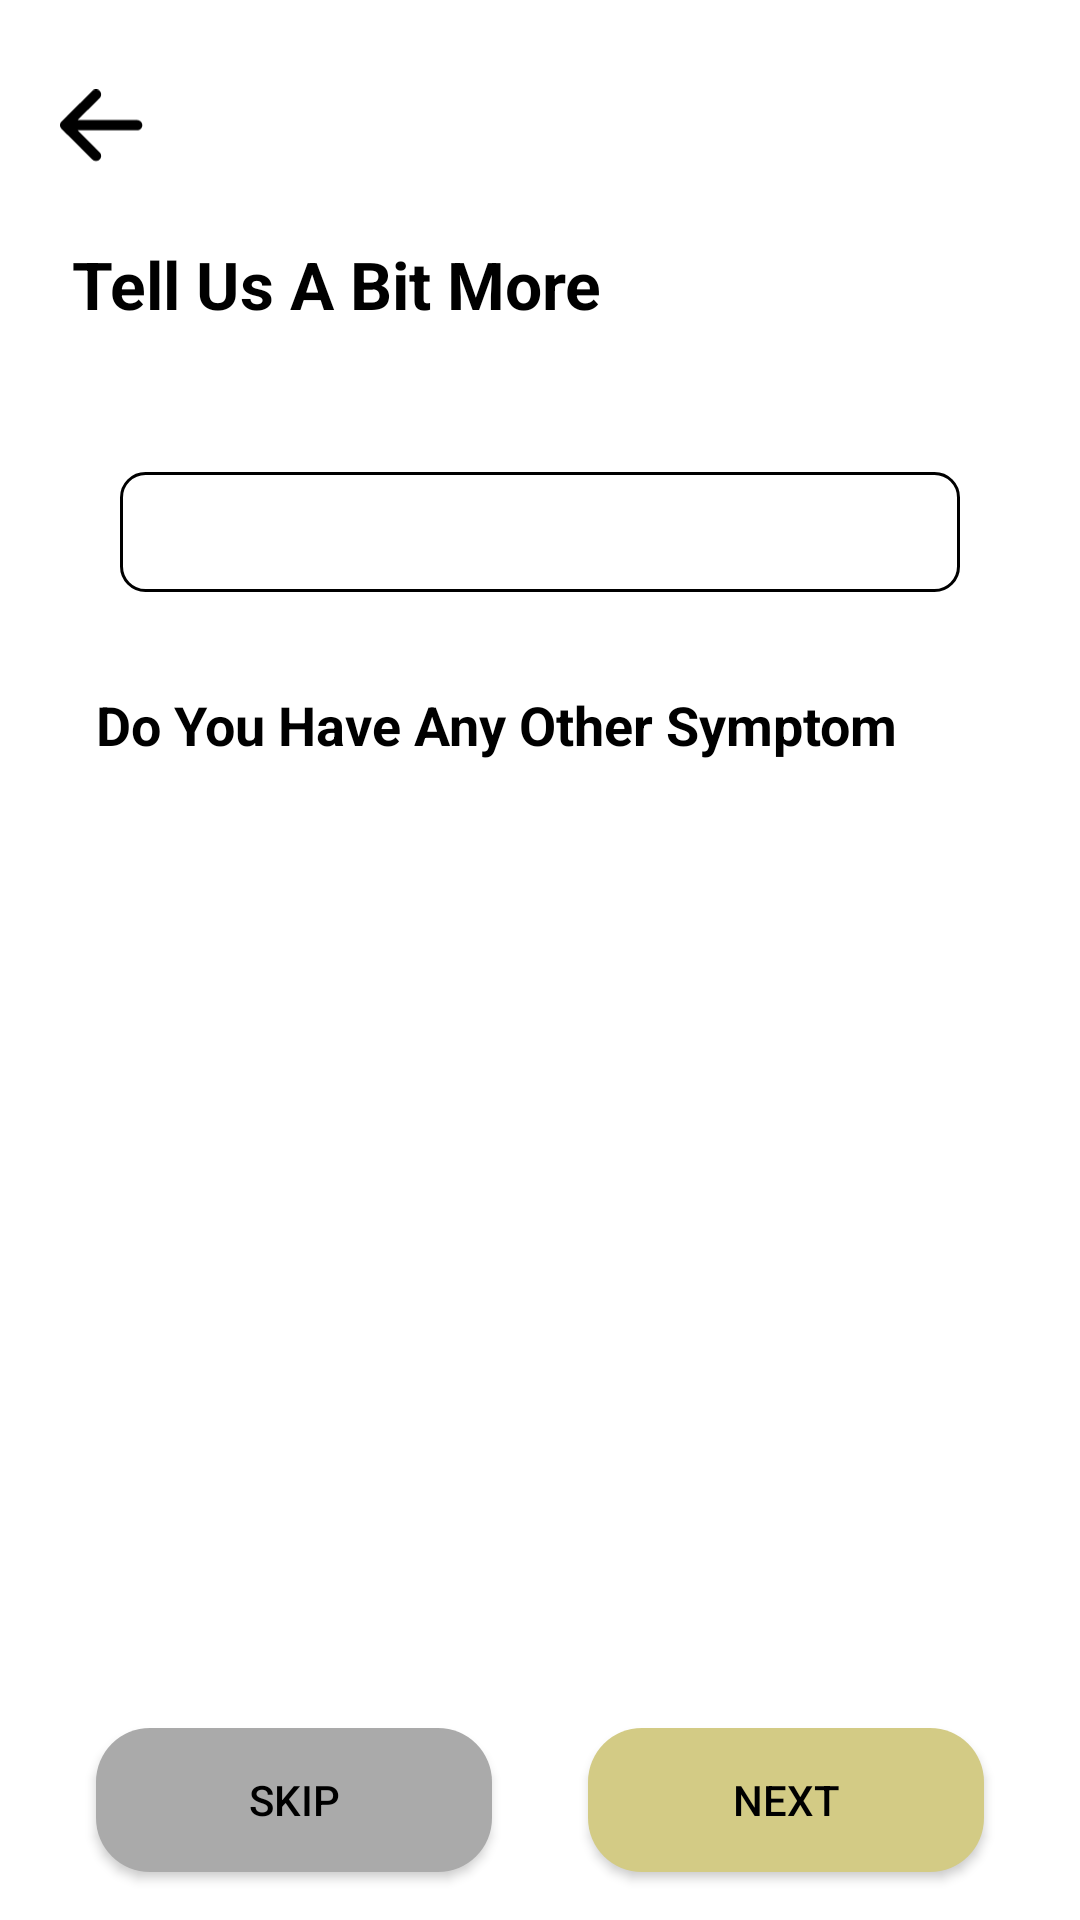

Icons on this 1080 × 1920 Android screen, each with its box as (x1, y1, x2, y2):
back: (60, 89, 143, 162)
